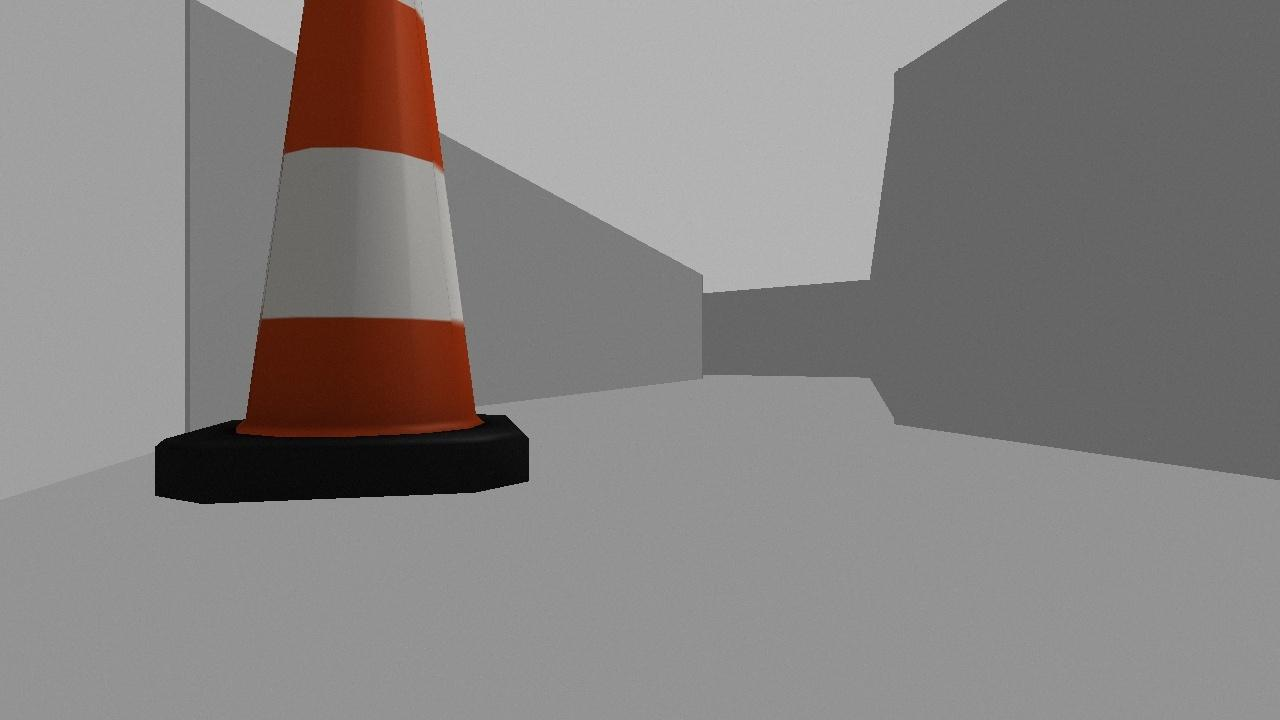cone_barrel: (135, 0, 544, 514)
